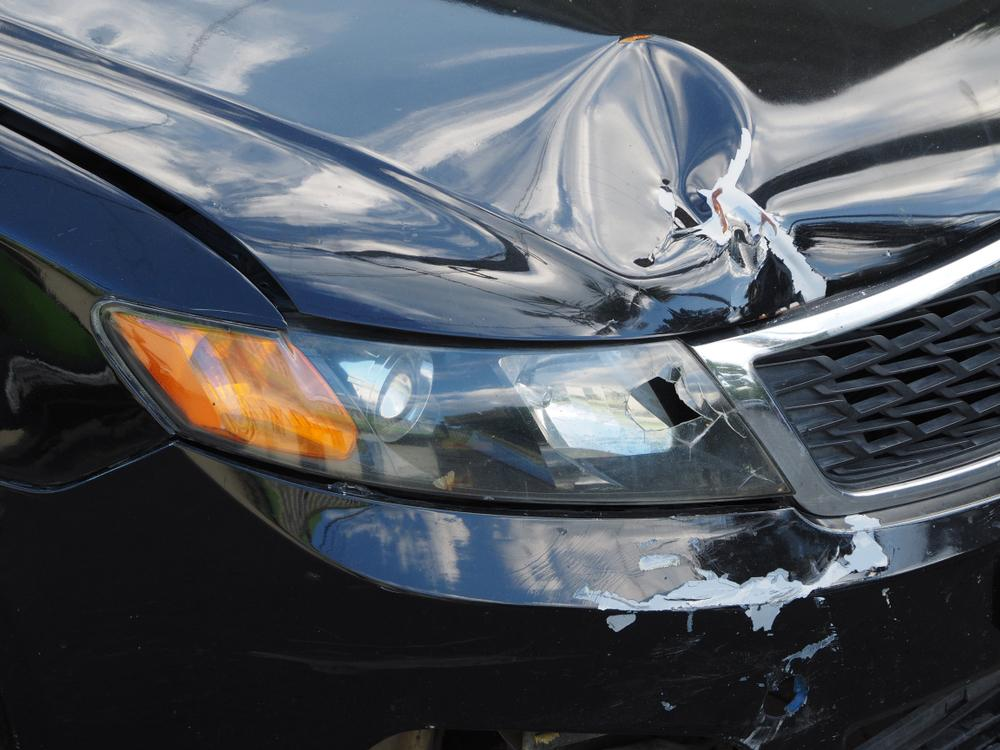dent: (577, 39, 1000, 298)
lamp broken: (102, 305, 795, 507)
scratch: (568, 509, 895, 750)
